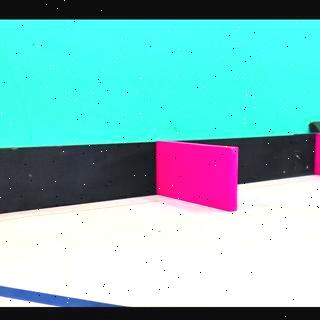xparking: (162, 150, 237, 210), (316, 137, 318, 177)
